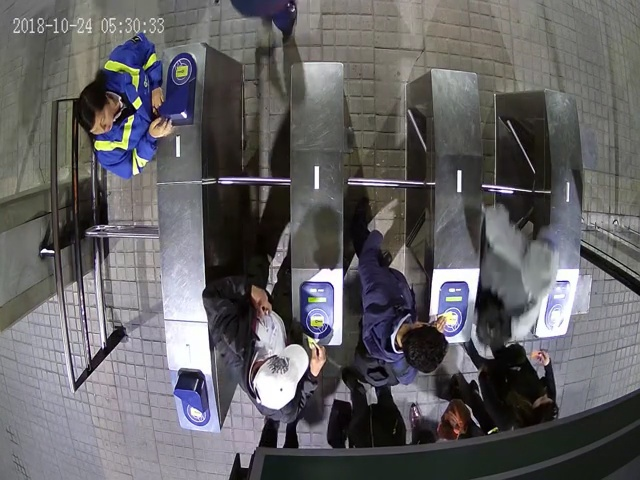Chaleco_azul: (76, 32, 175, 180)
